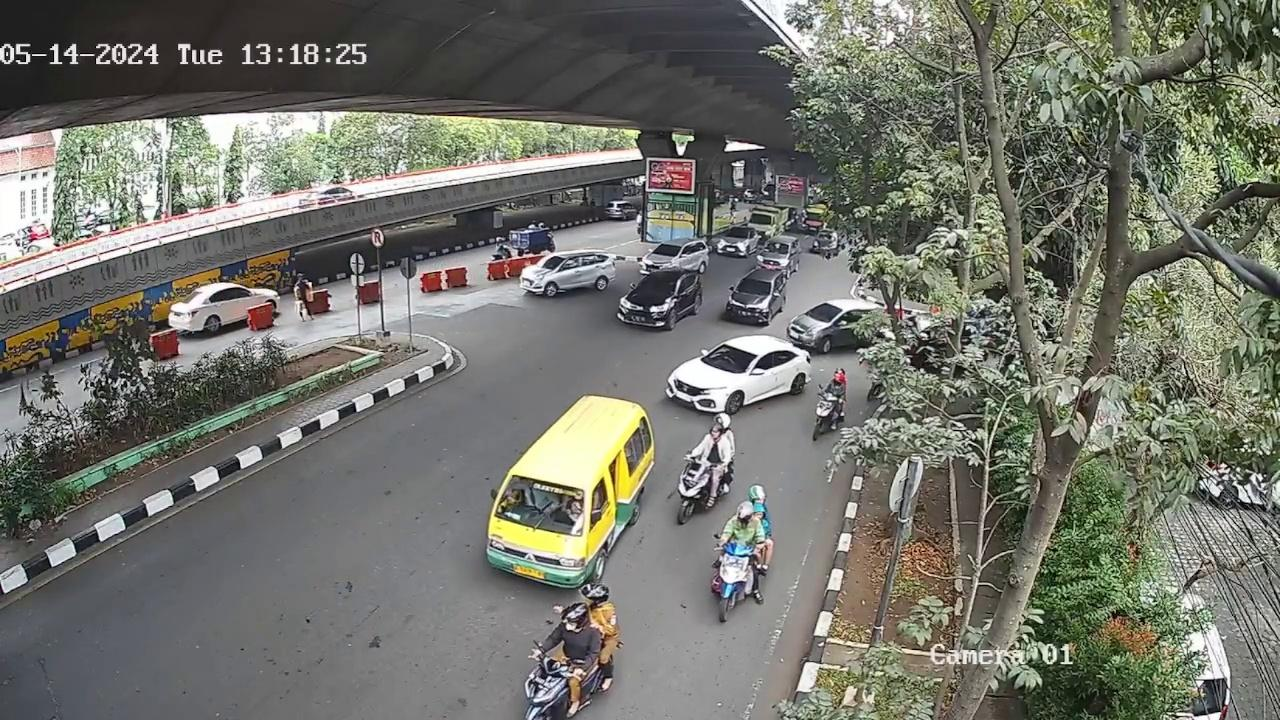pakai: (517, 485, 555, 522)
windshield: (490, 473, 590, 545)
